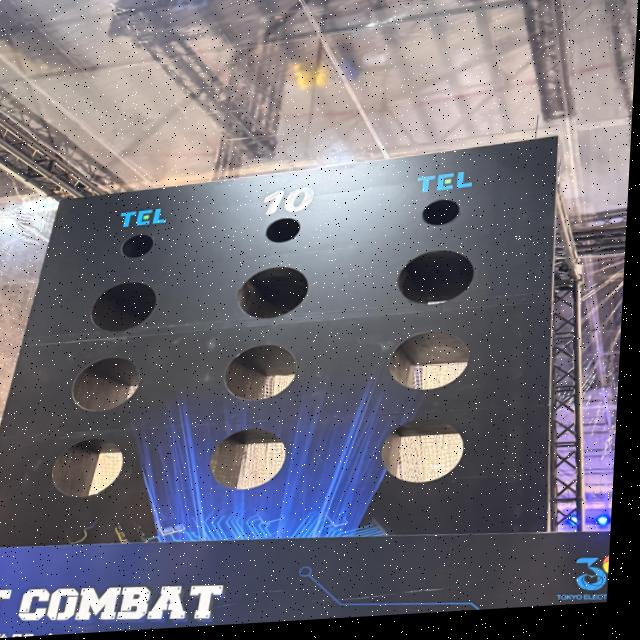hole: (380, 417, 465, 484), (208, 427, 287, 492), (389, 329, 470, 391), (397, 247, 476, 307), (52, 437, 124, 499), (224, 343, 298, 402), (236, 265, 310, 320), (71, 355, 141, 413), (91, 280, 157, 332), (422, 199, 459, 226), (266, 218, 301, 243), (122, 234, 154, 258)
